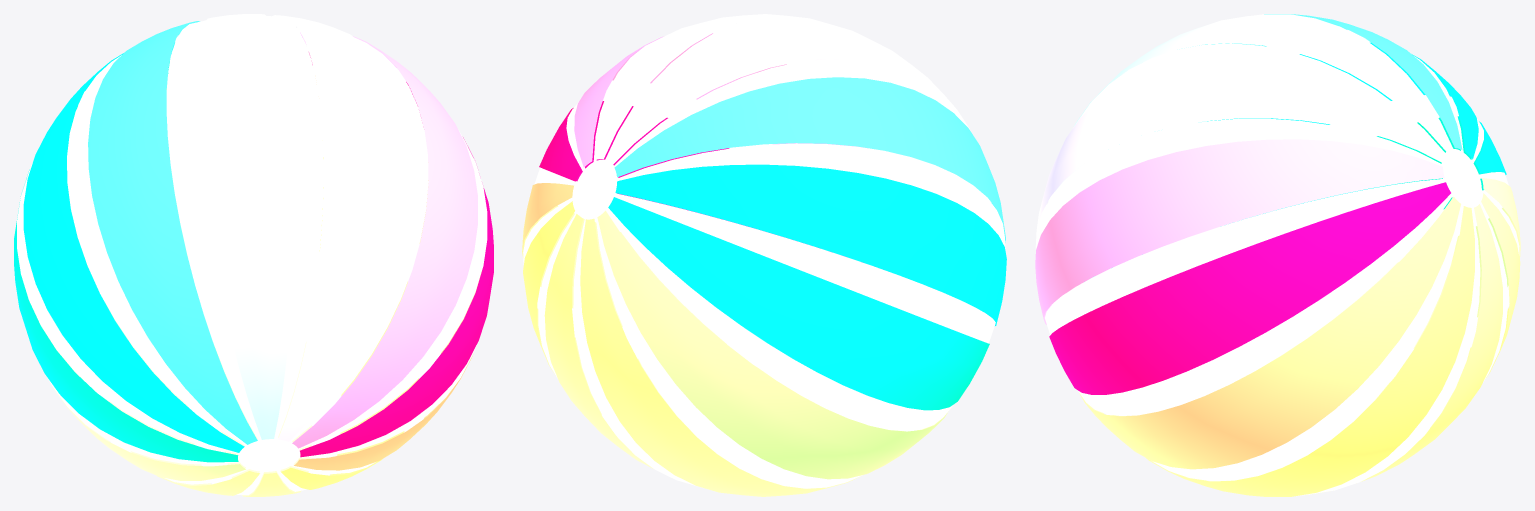
Rendered from superball_w.glb.
3 renders of one model, left to right at view 1: azimuth 30°, elevation 25°; view 2: azimuth 150°, elevation 25°; view 3: azimuth 270°, elevation 25°, orthographic.
Parts seen in each view (by area): view 1: Kugel.1, Kugel-12, Kugel-11, Kugel-1, Kugel-10, Kugel-2, Kugel-9, Kugel-3, Kugel-4, Kugel-8, Kugel-5, Kugel-7 (+1 smaller); view 2: Kugel.1, Kugel-9, Kugel-10, Kugel-8, Kugel-11, Kugel-7, Kugel-12, Kugel-6, Kugel-1, Kugel-5, Kugel-2, Kugel-4 (+1 smaller); view 3: Kugel.1, Kugel-3, Kugel-2, Kugel-4, Kugel-1, Kugel-5, Kugel-12, Kugel-6, Kugel-11, Kugel-7, Kugel-8, Kugel-10 (+1 smaller).
Boxes of the visible parts, x1,y1,x2,y2 form: Kugel.1: (17,16,487,495); Kugel-12: (195,14,294,439); Kugel-11: (88,21,257,444); Kugel-1: (272,15,405,441); Kugel-10: (23,43,244,452); Kugel-2: (292,32,477,448); Kugel-9: (14,62,238,462); Kugel-3: (300,53,493,457); Kugel-4: (294,180,481,470); Kugel-8: (30,88,245,480); Kugel-5: (280,157,418,489); Kugel-7: (105,254,259,495); Kugel.1: (523,16,1005,488); Kugel-9: (608,197,989,410); Kugel-10: (615,164,1006,325); Kugel-8: (597,210,948,479); Kugel-11: (614,77,1005,300); Kugel-7: (580,218,903,496); Kugel-12: (606,21,982,193); Kugel-6: (544,214,716,468); Kugel-1: (595,14,874,159); Kugel-5: (523,201,808,432); Kugel-2: (574,33,867,167); Kugel-4: (522,183,726,343); Kugel.1: (1037,14,1519,496); Kugel-3: (1049,182,1450,394); Kugel-2: (1035,139,1444,324); Kugel-4: (1079,196,1460,469); Kugel-1: (1035,58,1445,299); Kugel-5: (1112,206,1474,496); Kugel-12: (1055,16,1452,191); Kugel-6: (1139,204,1502,494); Kugel-11: (1199,14,1462,149); Kugel-7: (1332,193,1520,438); Kugel-8: (1273,178,1520,360); Kugel-10: (1207,42,1478,159).
Bounding box in the file's own units: 3 × 3.01 × 3.01.
